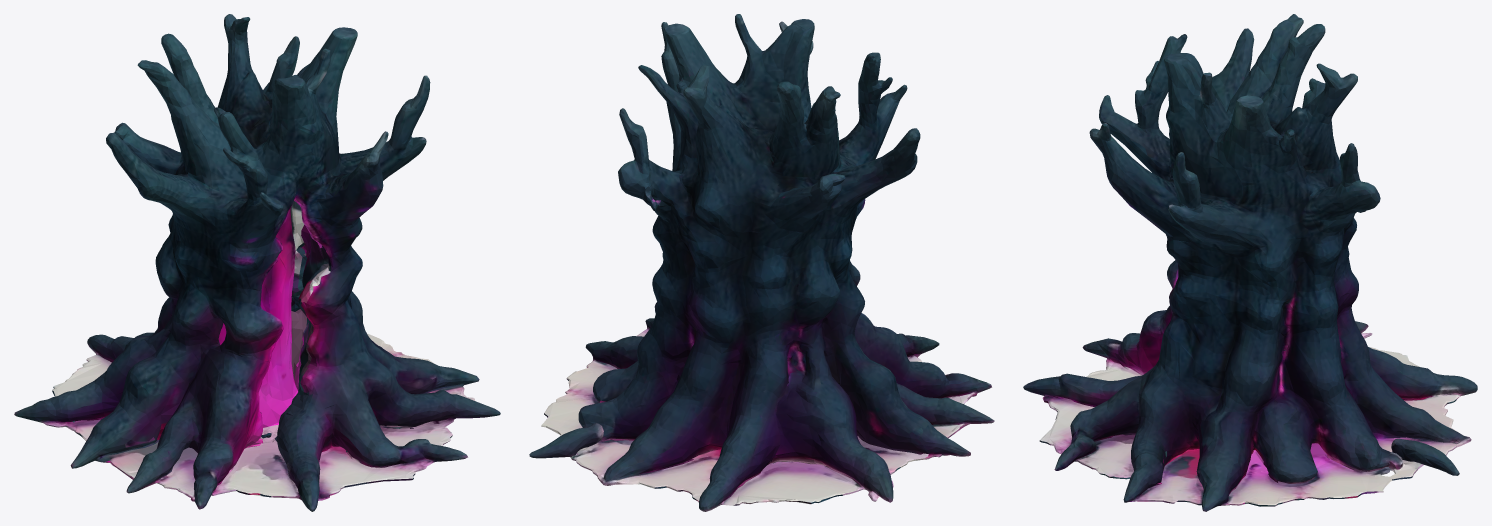
Rendered from root-east-generated-2026-04-19T17-05-01-813Z.medium.glb.
The picture shows the model from 3 angles, left to right: view 1: azimuth 30°, elevation 25°; view 2: azimuth 150°, elevation 25°; view 3: azimuth 270°, elevation 25°; orthographic projection.
Visible parts, largest first — view 1: temp_mesh.ply; view 2: temp_mesh.ply; view 3: temp_mesh.ply.
Boxes of the visible parts, x1=… form: temp_mesh.ply: x1=14, y1=14, x2=500, y2=511; temp_mesh.ply: x1=529, y1=14, x2=994, y2=511; temp_mesh.ply: x1=1023, y1=14, x2=1477, y2=511.
Bounding box in the file's own units: 1.97 × 1.77 × 1.97.
1 material, 1 textured.
